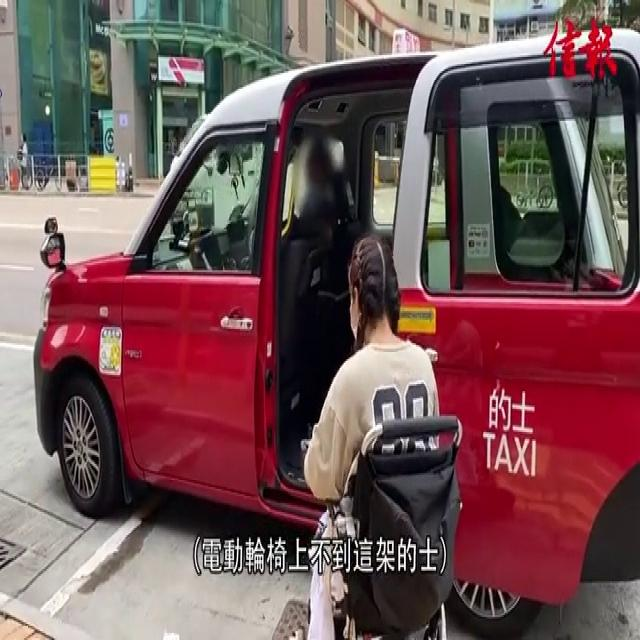wheelchairs: (282, 395, 478, 640)
